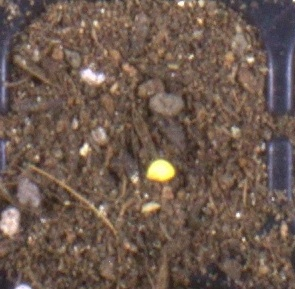chilli seed: (145, 159, 176, 182)
